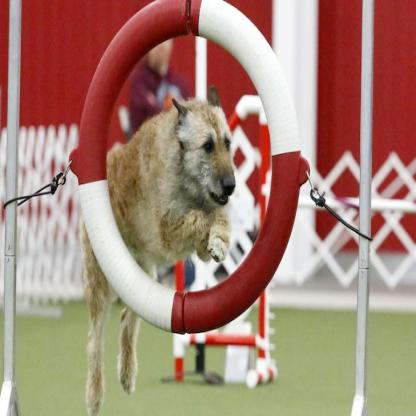Belgian Laekenois: (106, 84, 238, 291)
